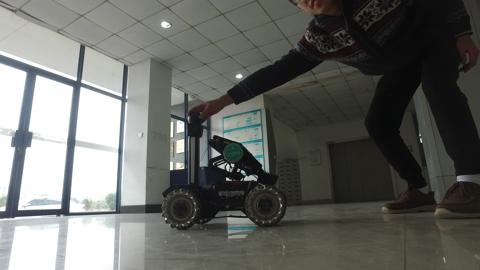chariot: (150, 110, 301, 232)
